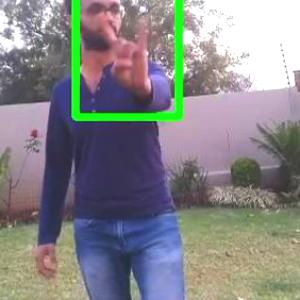takeoff-hand: (92, 9, 160, 103)
